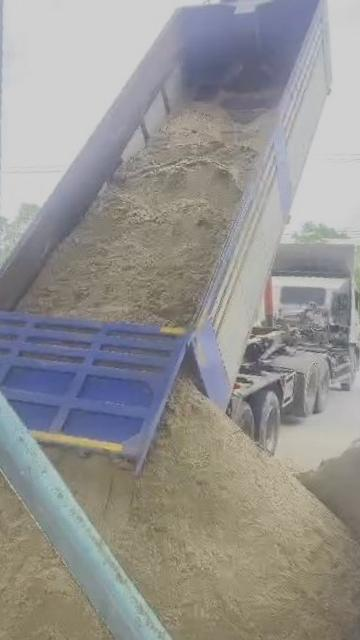sand: (51, 381, 360, 640), (20, 104, 263, 325), (0, 454, 150, 640), (298, 428, 360, 551)
